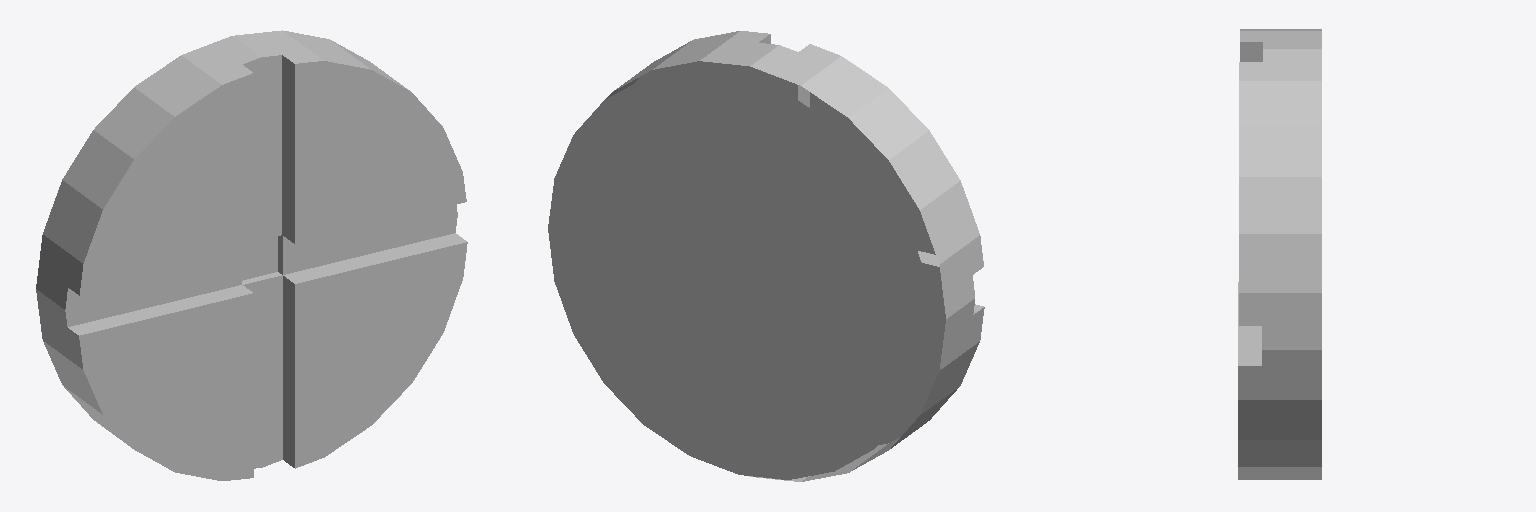
Rendered from original-1.obj.
3 renders of one model, left to right at view 1: azimuth 30°, elevation 25°; view 2: azimuth 150°, elevation 25°; view 3: azimuth 270°, elevation 25°, orthographic.
Visible parts, largest first — view 1: 3dw.1f419ba839c771df6d07533ccc0d1b77/Model/Group_1_1/Group_1/mes; view 2: 3dw.1f419ba839c771df6d07533ccc0d1b77/Model/Group_1_1/Group_1/mes; view 3: 3dw.1f419ba839c771df6d07533ccc0d1b77/Model/Group_1_1/Group_1/mes.
Part boxes in pixels (left/top/right/bottom): 3dw.1f419ba839c771df6d07533ccc0d1b77/Model/Group_1_1/Group_1/mes: left=36, top=30, right=467, bottom=480; 3dw.1f419ba839c771df6d07533ccc0d1b77/Model/Group_1_1/Group_1/mes: left=548, top=31, right=984, bottom=481; 3dw.1f419ba839c771df6d07533ccc0d1b77/Model/Group_1_1/Group_1/mes: left=1238, top=29, right=1321, bottom=479.
Size of the model in its own units: 0.1679 by 0.1657 by 0.0306.